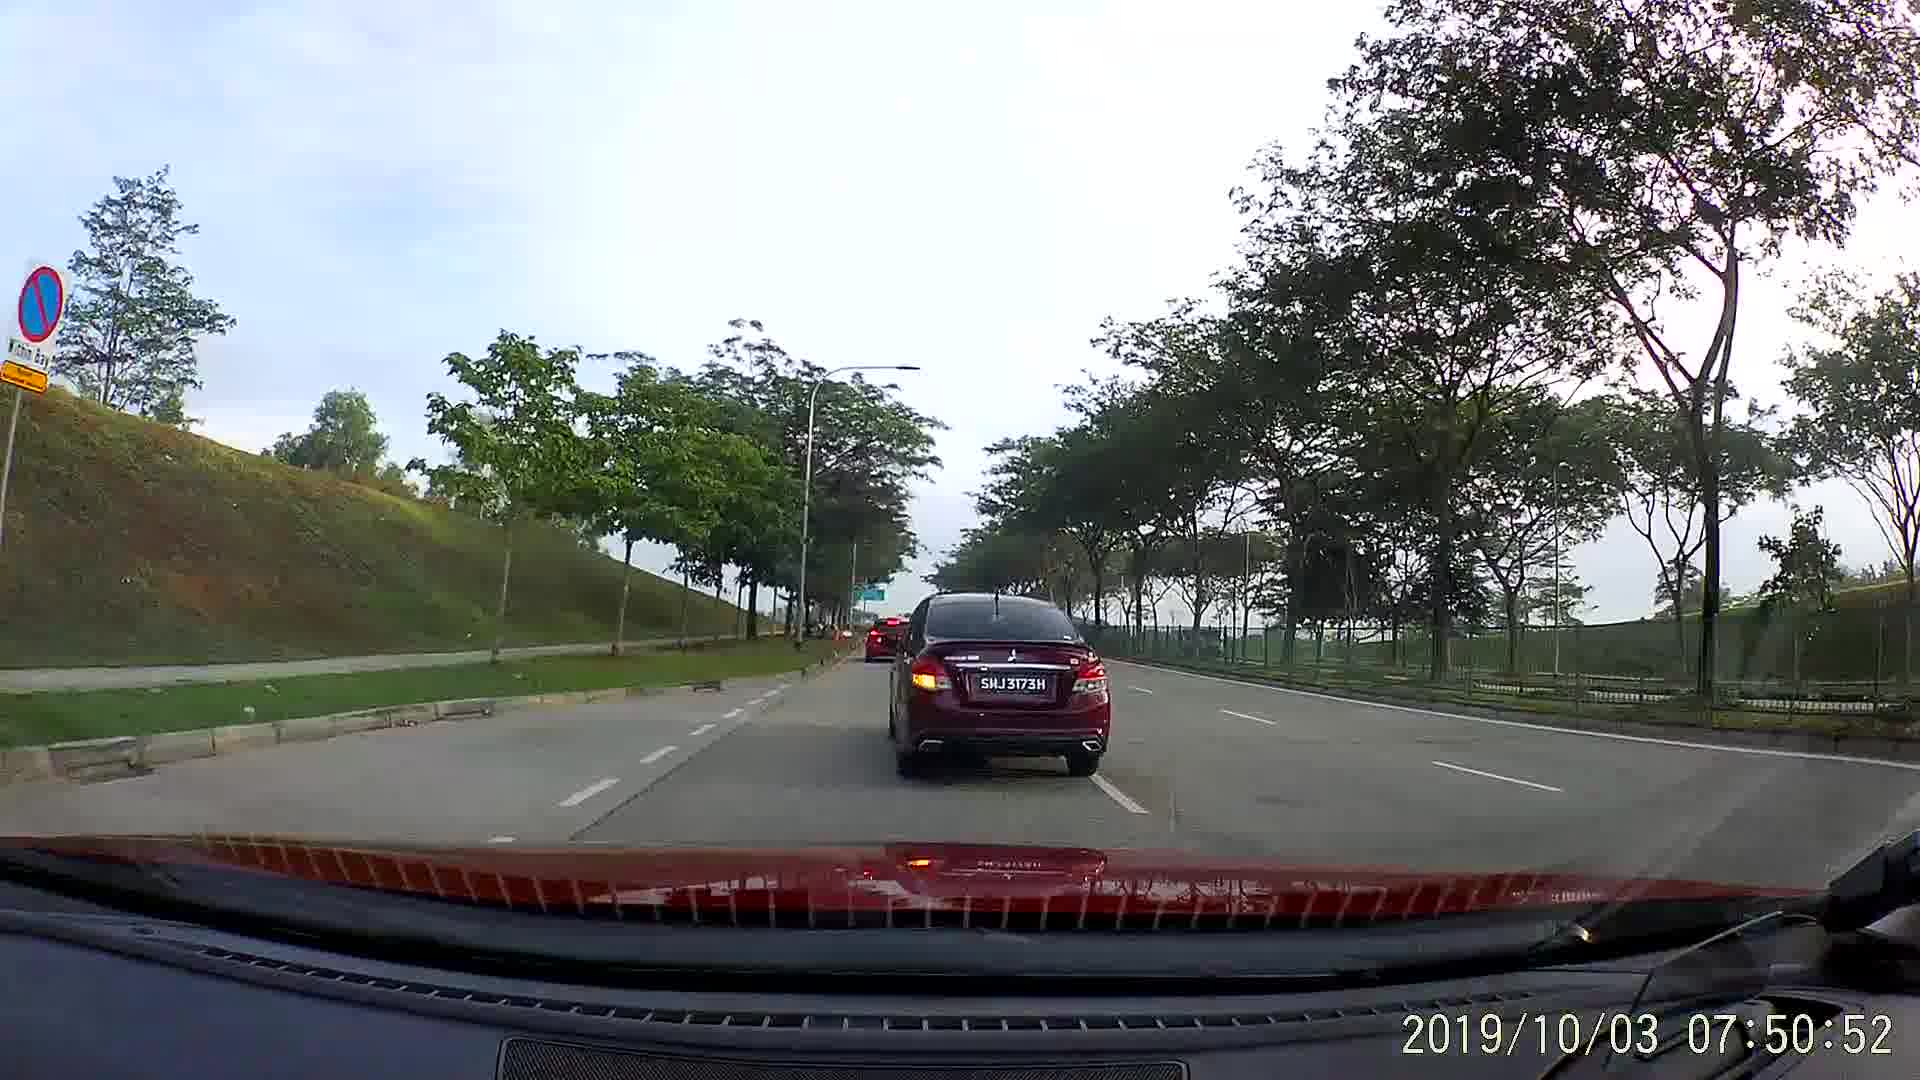car: (887, 591, 1112, 786), (869, 615, 920, 662)
